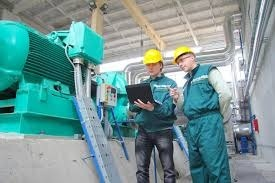helmet: (171, 46, 197, 64), (141, 47, 164, 66)
person with partial safety: (172, 47, 237, 177), (133, 48, 175, 164)
